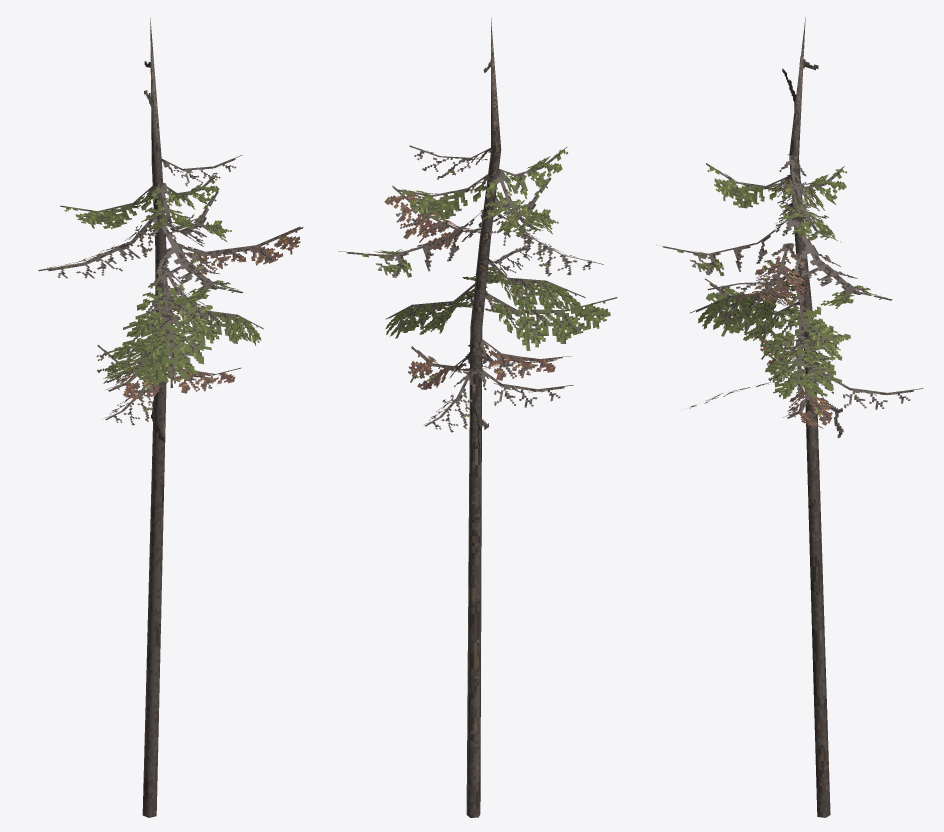
File: Spruce5.glb
The picture shows the model from 3 angles, left to right: view 1: azimuth 30°, elevation 25°; view 2: azimuth 150°, elevation 25°; view 3: azimuth 270°, elevation 25°; orthographic projection.
Visible parts, largest first — view 1: Spruce5; view 2: Spruce5; view 3: Spruce5.
Part boxes in pixels (x1,y1,x2,y2): Spruce5: (38,17,303,817); Spruce5: (338,18,617,817); Spruce5: (656,17,923,817).
Bounding box in the file's own units: 5.04 × 15.07 × 4.75.
Materials: 2 (2 with a texture image).
